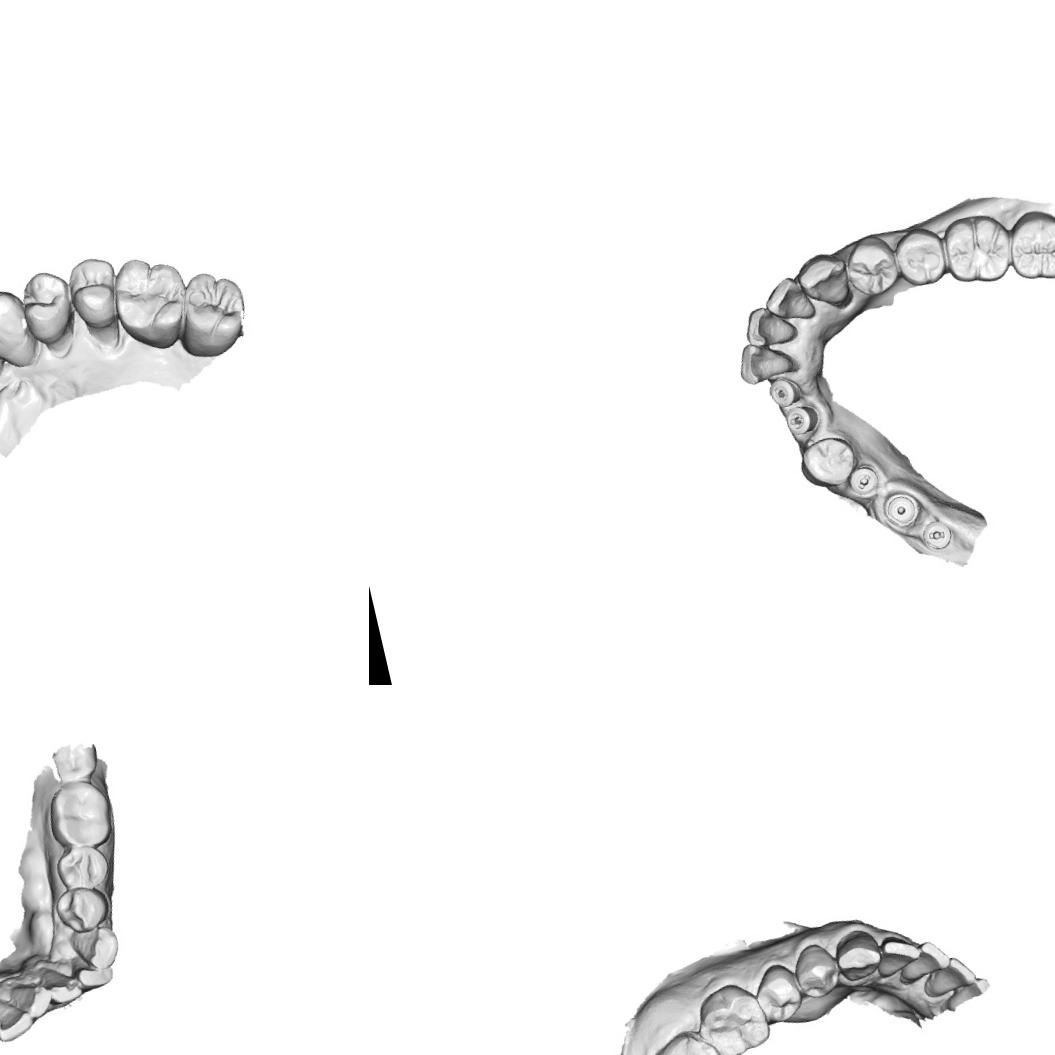canine: (792, 248, 855, 312), (0, 281, 40, 378), (827, 924, 886, 986), (66, 922, 124, 978)
implant: (880, 488, 924, 532)
implant_minus: (915, 515, 958, 557), (764, 373, 804, 411), (845, 461, 882, 500)
implant_plus: (780, 400, 822, 440)
incisor: (758, 271, 818, 328), (733, 334, 797, 387), (739, 299, 800, 352), (918, 951, 980, 1002), (894, 936, 954, 985), (868, 928, 924, 980), (38, 960, 86, 1009), (7, 978, 58, 1024), (0, 991, 36, 1046), (69, 956, 117, 996)
molar: (102, 246, 200, 360), (166, 264, 256, 364), (936, 207, 1018, 292), (689, 975, 776, 1055), (41, 780, 120, 856), (1001, 202, 1055, 287), (643, 1020, 735, 1055), (45, 740, 103, 792)
premolar: (14, 265, 81, 350), (62, 251, 128, 335), (839, 230, 904, 302), (747, 957, 809, 1028), (795, 431, 863, 494), (889, 222, 951, 290), (49, 876, 115, 938), (788, 937, 845, 1003), (51, 840, 114, 895)
